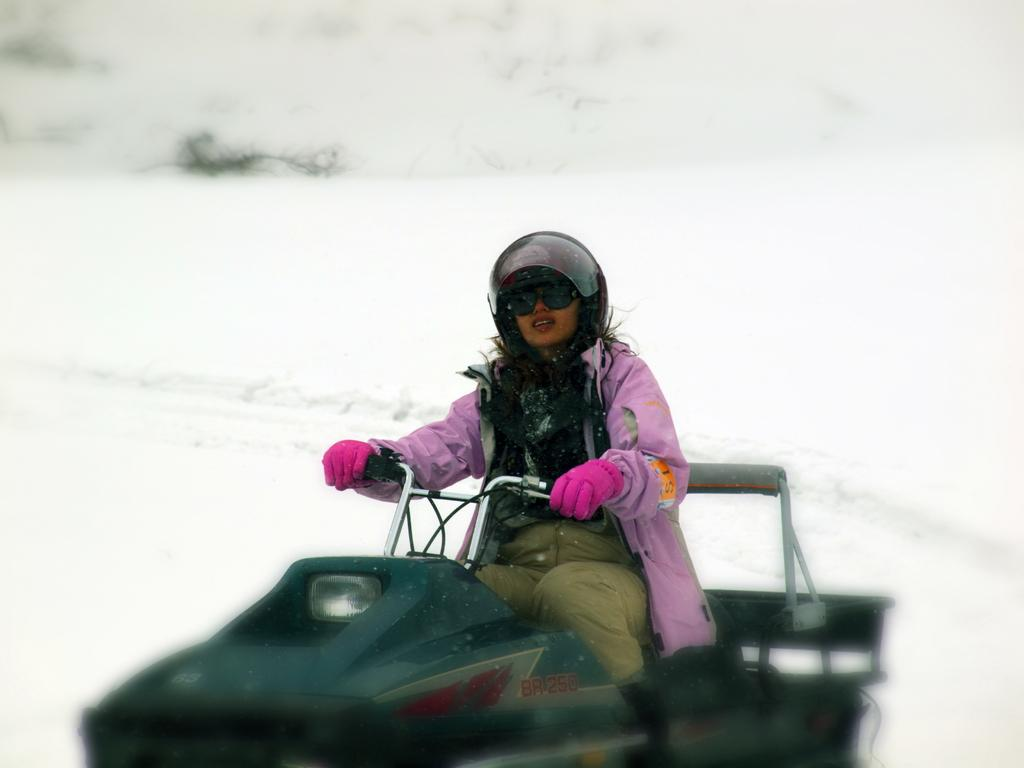helmet: (487, 231, 609, 357)
